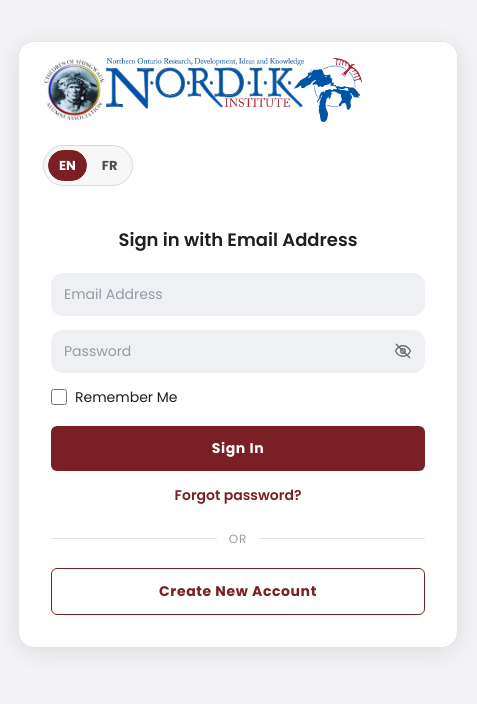
Test: LoginPage › shows field errors when the form is submitted without credentials
The width and height of the screenshot is (477, 704).
Click the button "Sign In": (238, 448) [51,426,425,470]
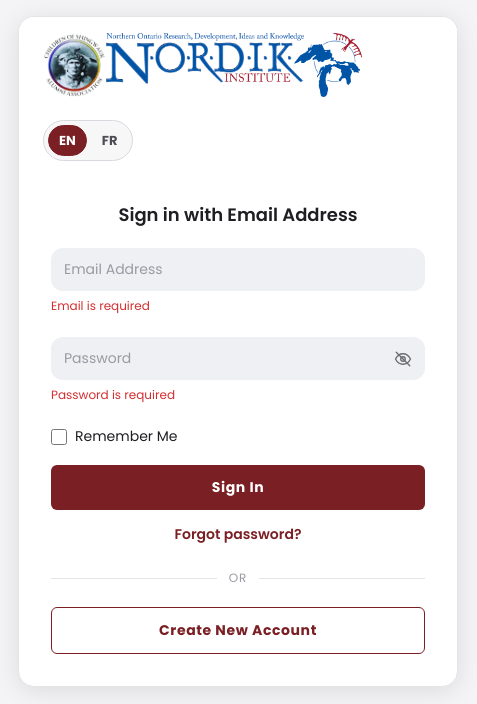
Expected: the text "Email is required" is shown, [51,297,150,314]
Expected: the text "Password is required" is shown, [51,386,175,403]
